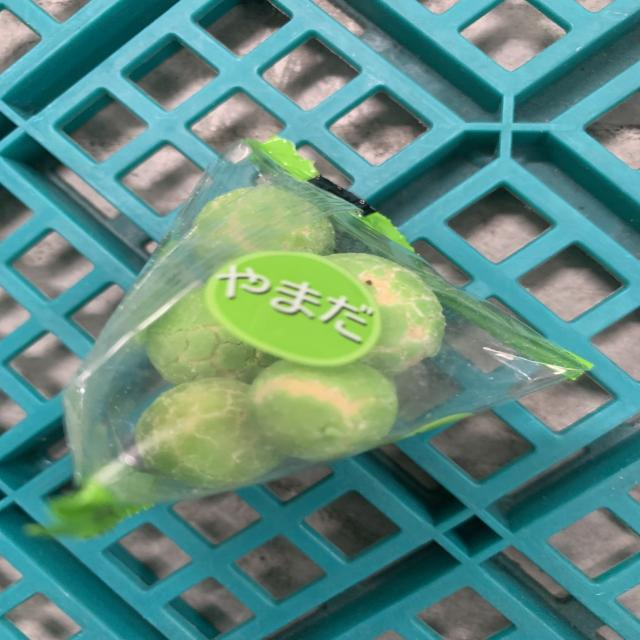object_name: (53, 144, 593, 524)
